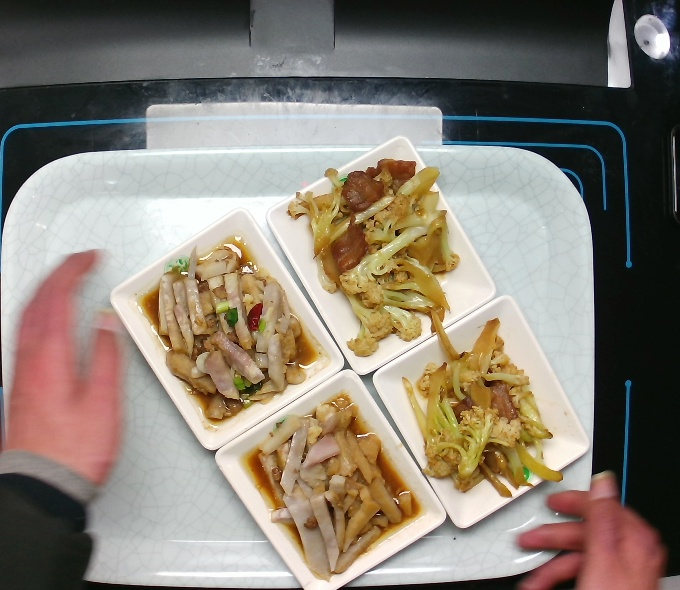wcq-QiuCaiChaoRou: (276, 147, 458, 355), (397, 318, 563, 519)
wcq-YuTou: (133, 225, 316, 431), (243, 390, 422, 578)
